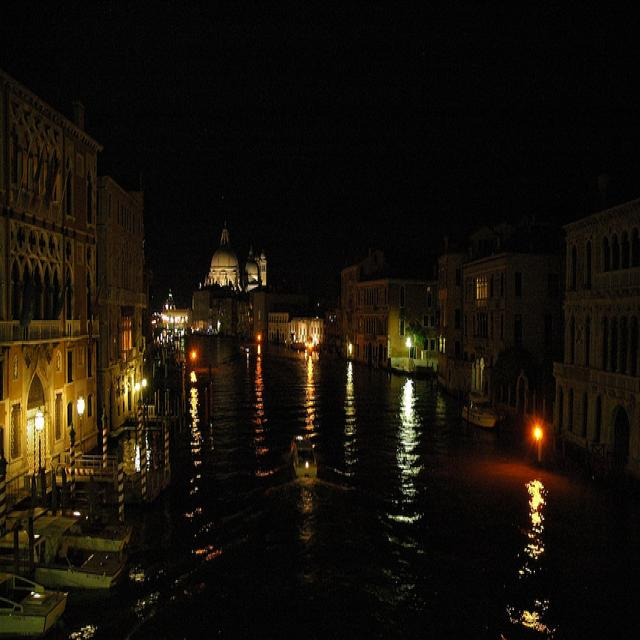Boat: (46, 523, 137, 614), (0, 548, 60, 640), (453, 379, 527, 444)
